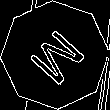M_SE: (21, 21, 89, 89)
